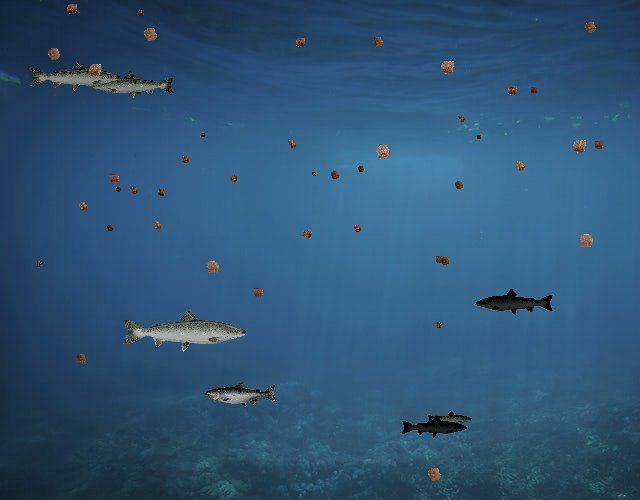Fish: (120, 307, 249, 353), (29, 60, 123, 94), (90, 69, 176, 100), (475, 288, 556, 317), (206, 382, 279, 408), (400, 415, 468, 439), (427, 411, 474, 428)
Pellet: (433, 54, 462, 83), (565, 133, 593, 161), (578, 16, 602, 40), (290, 33, 311, 54), (449, 176, 468, 195), (349, 220, 366, 237), (432, 318, 446, 332), (32, 257, 46, 271)
